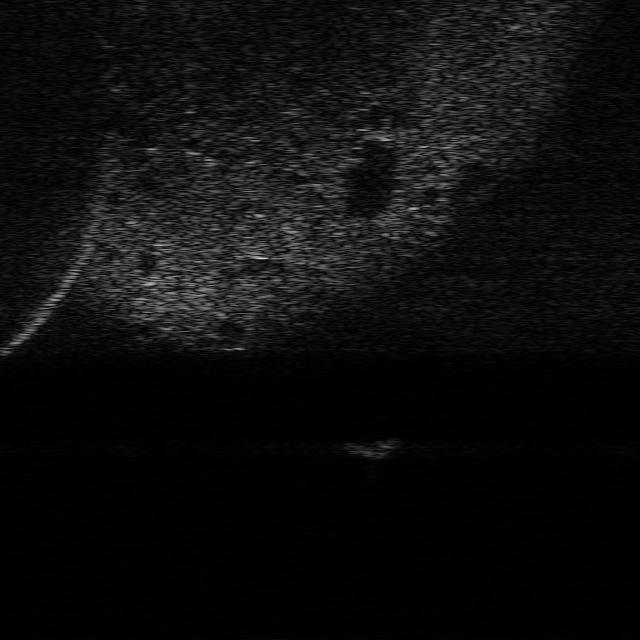cube: (341, 434, 404, 462)
